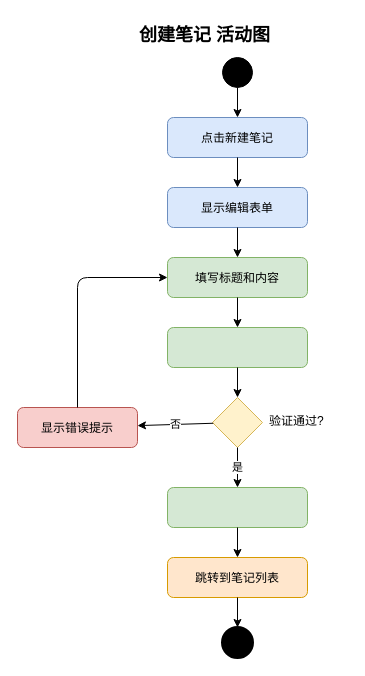
Some shapes in this 365 by 676 pixel diagram are drawn without their labels. Here are the shapes that lost their labels. From the top down, the box of each, then its label:
(166, 326, 308, 368): 选择分类和标签
(166, 486, 308, 528): 保存到数据库
